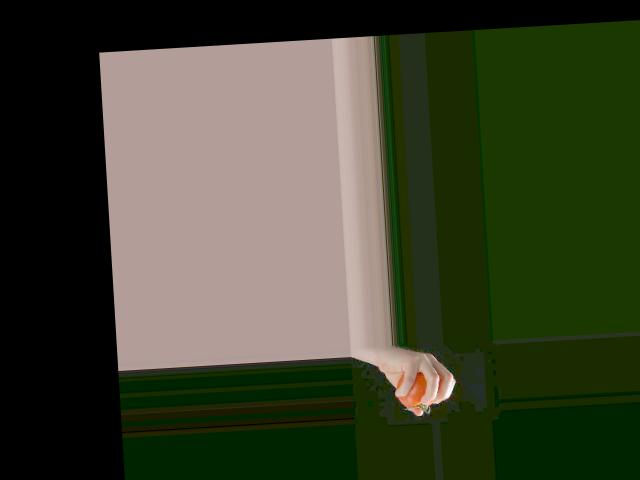tomato: (395, 369, 432, 407)
